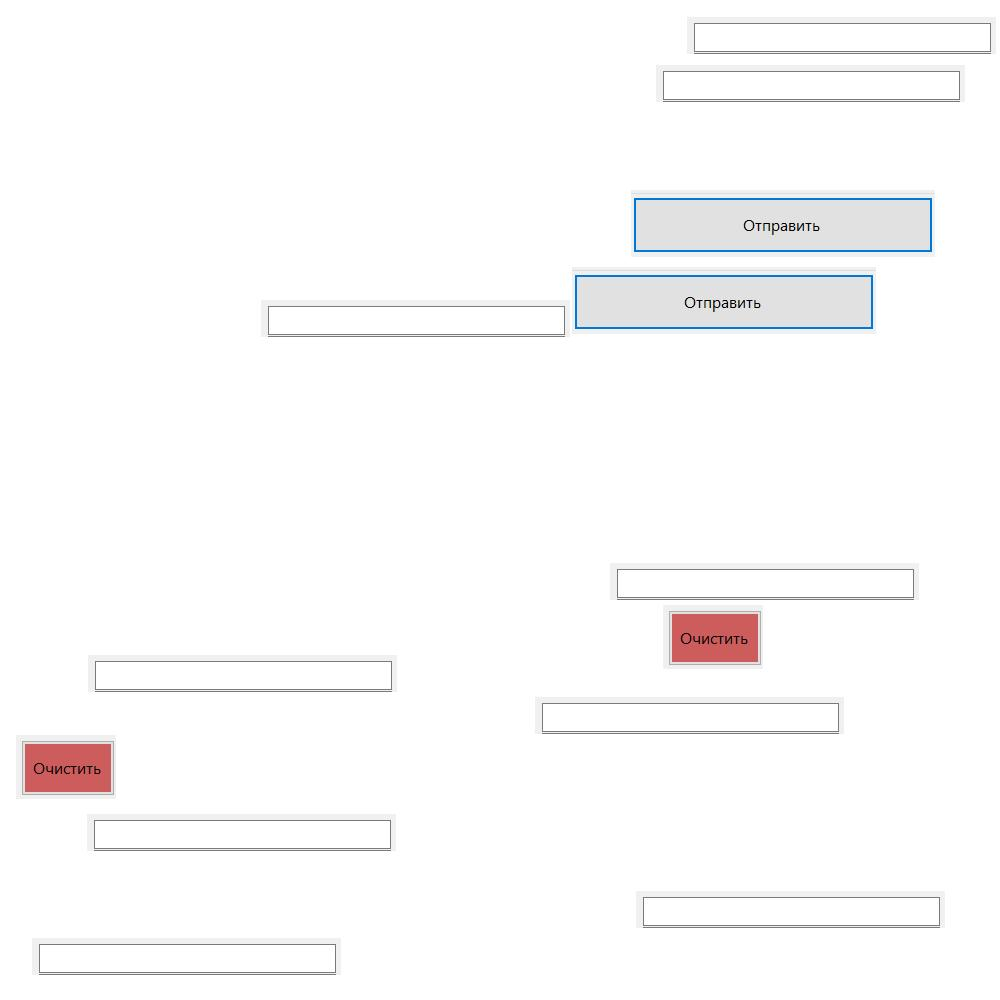Button: (631, 190, 935, 257), (572, 267, 876, 334), (16, 735, 116, 799), (663, 605, 763, 669)
EditText-: (636, 891, 945, 928), (32, 938, 341, 975), (261, 300, 570, 337), (535, 697, 844, 734), (87, 814, 396, 851), (610, 563, 919, 600), (88, 655, 397, 692), (656, 65, 965, 102), (687, 17, 996, 54)
